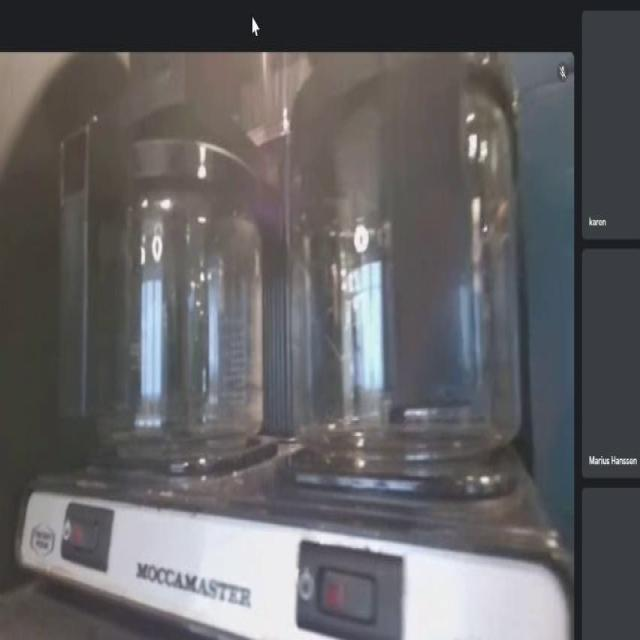nocoffee: (272, 53, 544, 497), (63, 96, 281, 487)
